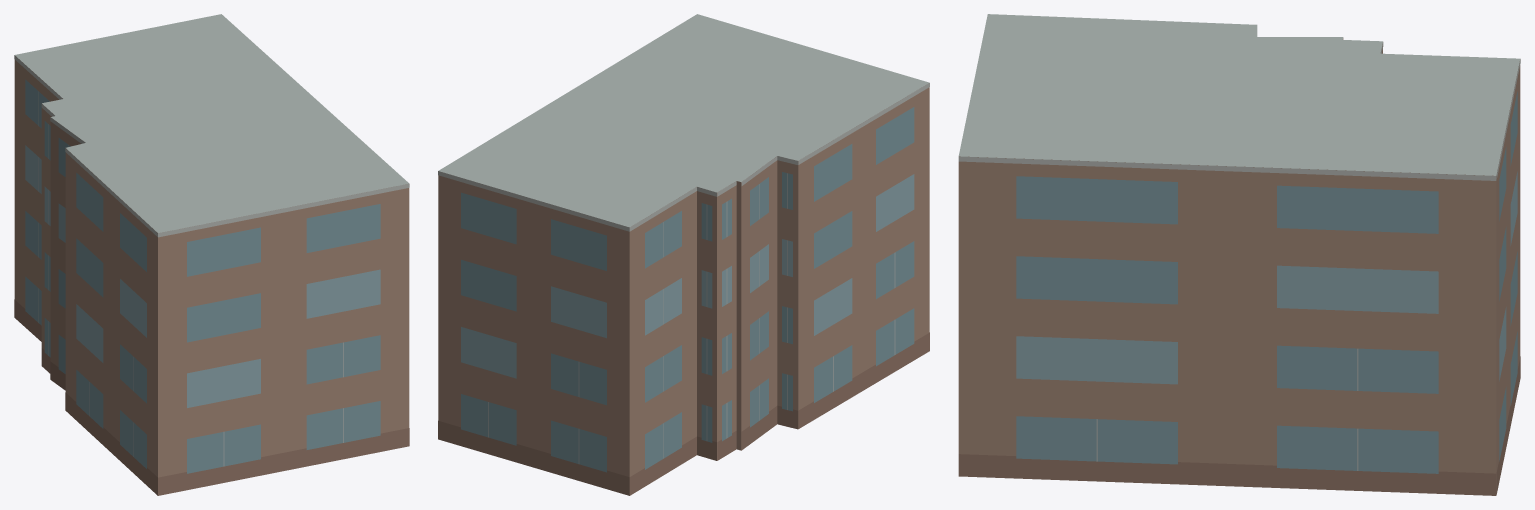
The model's file is survey-upis-32856473.glb.
3 views of the same model, side by side, from view 1: azimuth 30°, elevation 25°; view 2: azimuth 150°, elevation 25°; view 3: azimuth 270°, elevation 25° (orthographic). The views are drawn at different scales.
Parts seen in each view (by area): view 1: survey-upis-32856473.tmp; view 2: survey-upis-32856473.tmp; view 3: survey-upis-32856473.tmp.
Part boxes in pixels (x1,y1,x2,y2): survey-upis-32856473.tmp: (14, 14, 409, 495); survey-upis-32856473.tmp: (438, 14, 929, 495); survey-upis-32856473.tmp: (958, 14, 1520, 495).
Size of the model in its own units: 16.5 by 15.2 by 24.19.
